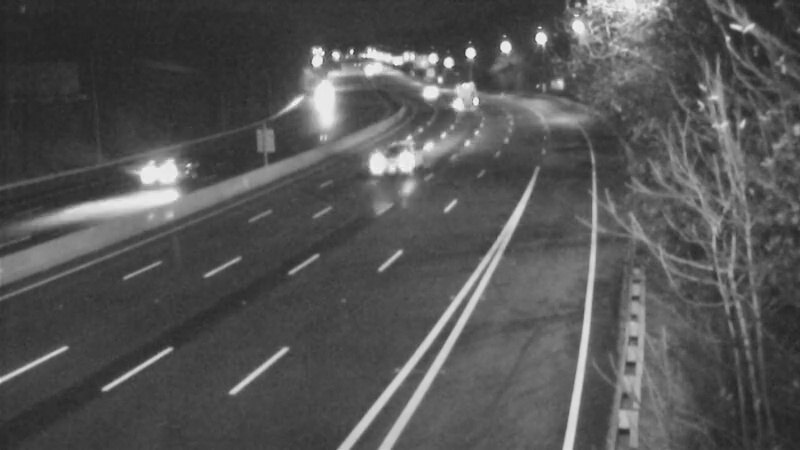vehicle: (360, 118, 440, 198), (118, 135, 198, 215), (401, 63, 451, 113), (433, 68, 483, 118), (297, 73, 347, 123)
